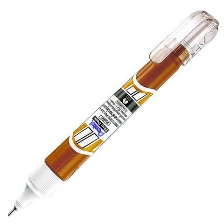correction_fluid: (4, 7, 220, 219)
